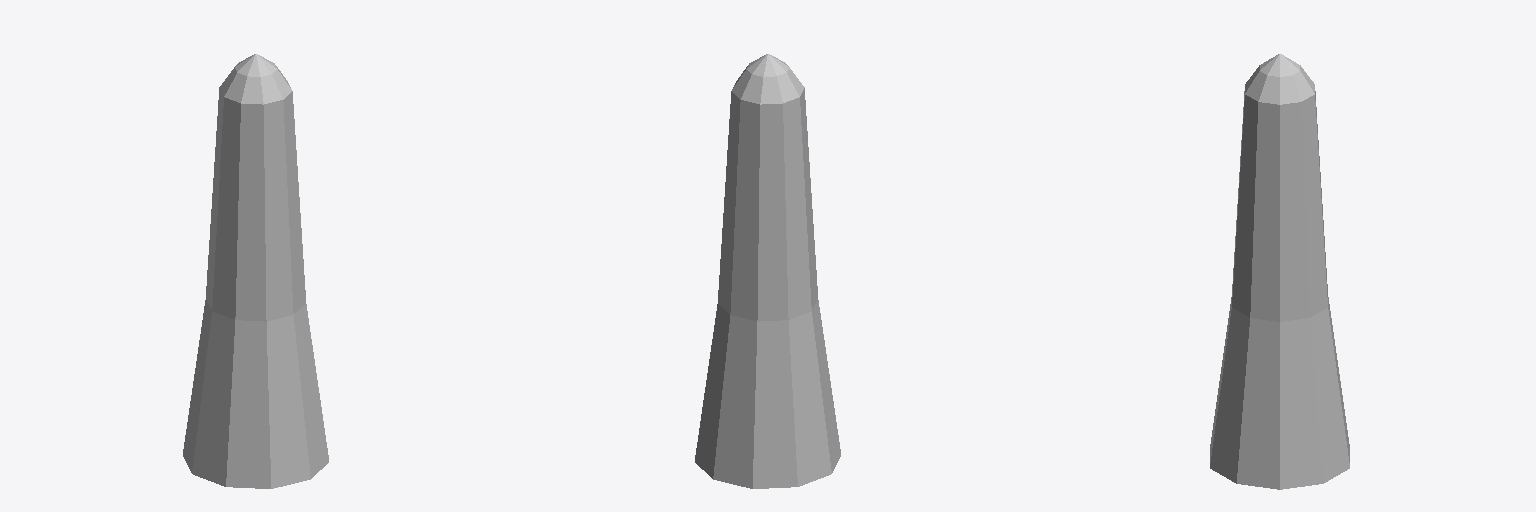
Rendered from shrubTrunk.obj.
3 renders of one model, left to right at view 1: azimuth 30°, elevation 25°; view 2: azimuth 150°, elevation 25°; view 3: azimuth 270°, elevation 25°, orthographic.
Parts seen in each view (by area): view 1: polySurface333_polySurface173; view 2: polySurface333_polySurface173; view 3: polySurface333_polySurface173.
Boxes of the visible parts, x1,y1,x2,y2 form: polySurface333_polySurface173: [183, 54, 328, 488]; polySurface333_polySurface173: [695, 54, 840, 488]; polySurface333_polySurface173: [1210, 54, 1349, 489].
Bounding box in the file's own units: 2 × 6.05 × 1.9.